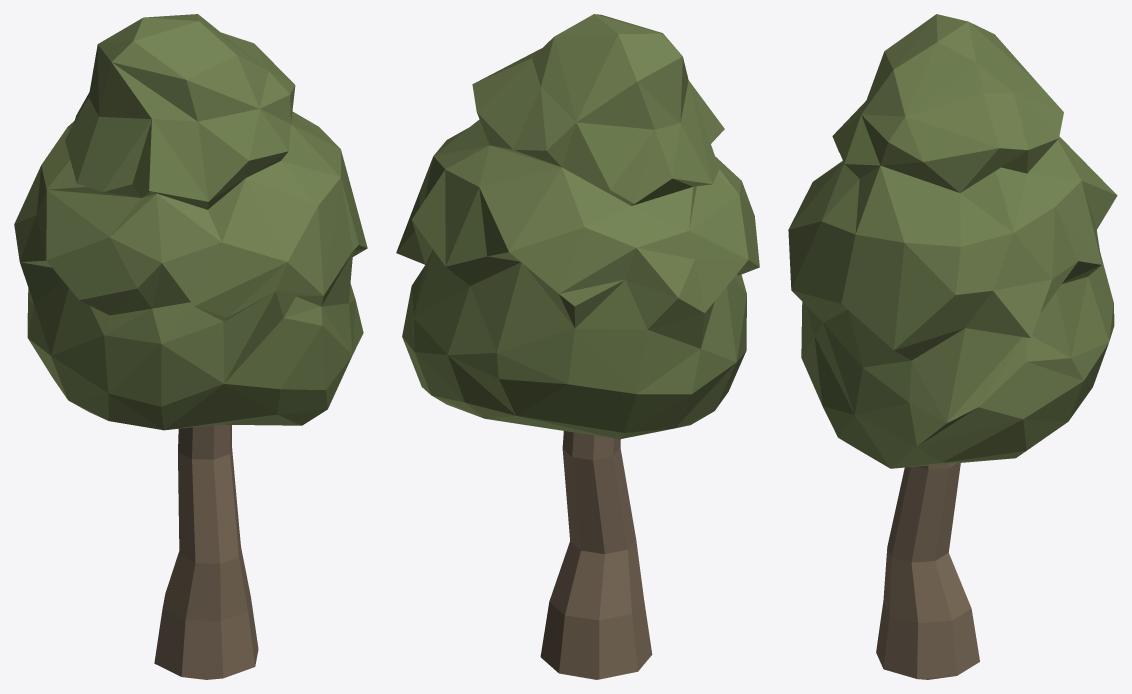
File: SM_Tree_Round_03.fbx
3 views of the same model, side by side, from view 1: azimuth 30°, elevation 25°; view 2: azimuth 150°, elevation 25°; view 3: azimuth 270°, elevation 25° (orthographic). The views are drawn at different scales.
Visible parts, largest first — view 1: SM_Tree_Round_03; view 2: SM_Tree_Round_03; view 3: SM_Tree_Round_03.
Boxes of the visible parts, left/top/right/bottom form: SM_Tree_Round_03: left=14, top=14, right=367, bottom=679; SM_Tree_Round_03: left=396, top=14, right=759, bottom=679; SM_Tree_Round_03: left=788, top=14, right=1117, bottom=679.
Size of the model in its own units: 69.97 by 142 by 66.24.
1 material, 1 textured.
